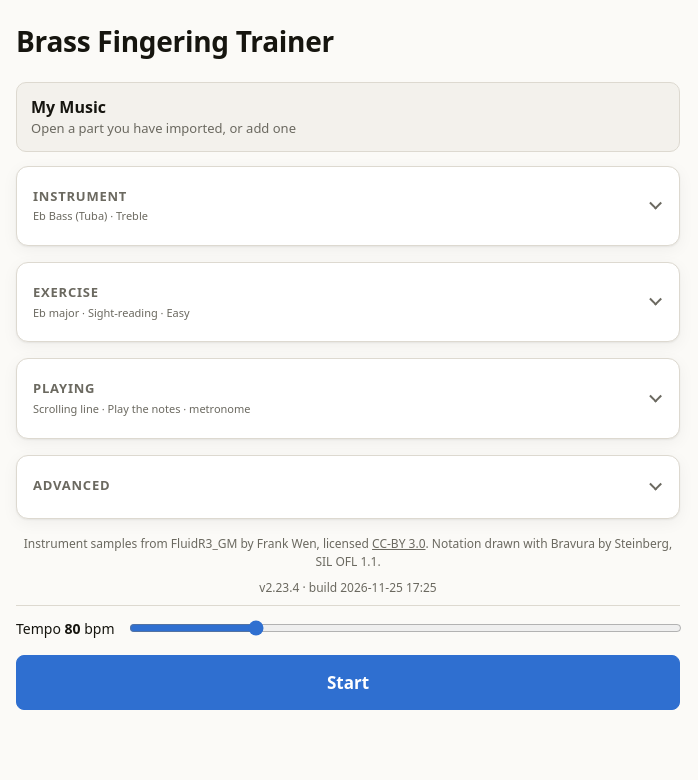
Scenario: headphones and speakers › chooses the phone speaker by default, and lets an output be chosen and forgotten
The image size is (698, 780).
Click the heading "Advanced" at {"x": 72, "y": 485}, box [33,476,110,494]
(page scrolled)
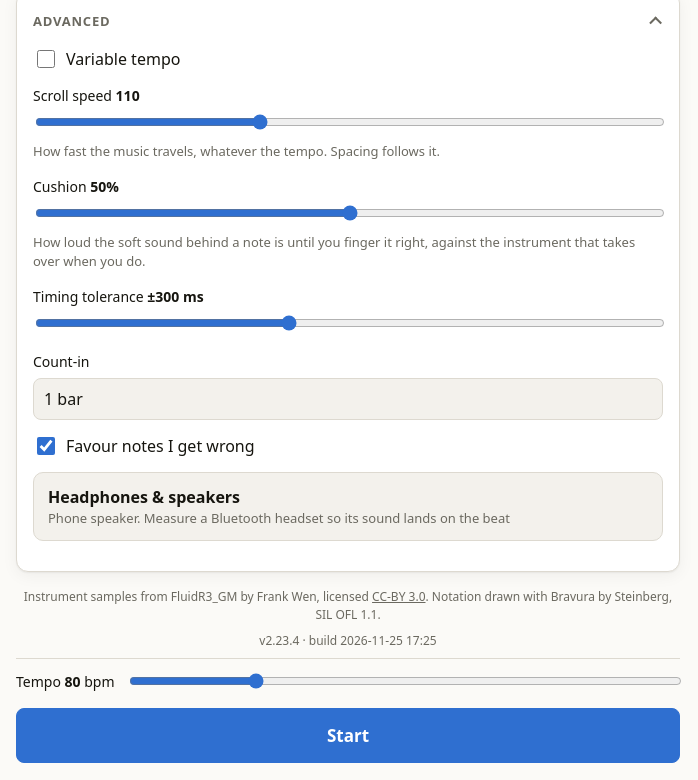
Click the button "Headphones & speakers" at {"x": 348, "y": 506}, box [33,472,663,541]
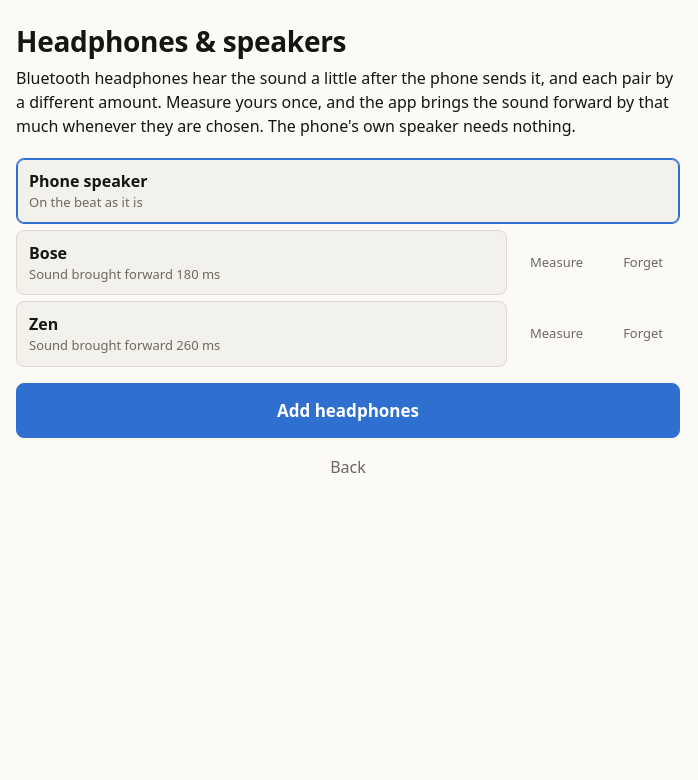
Result: the button "Zen Sound brought forward 260 ms" is shown
Click the button "Zen Sound brought forward 260 ms" at {"x": 103, "y": 345}, box [16,301,507,366]
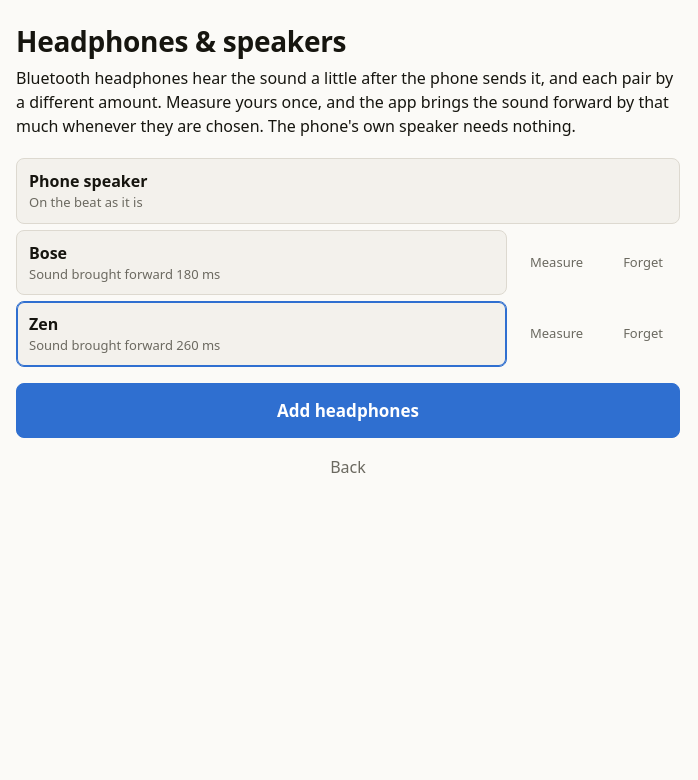
Forgetting the one in use puts the phone speaker back in charge.
Click the button with aria-label "Forget Zen" at {"x": 643, "y": 334}, box [606,301,680,366]
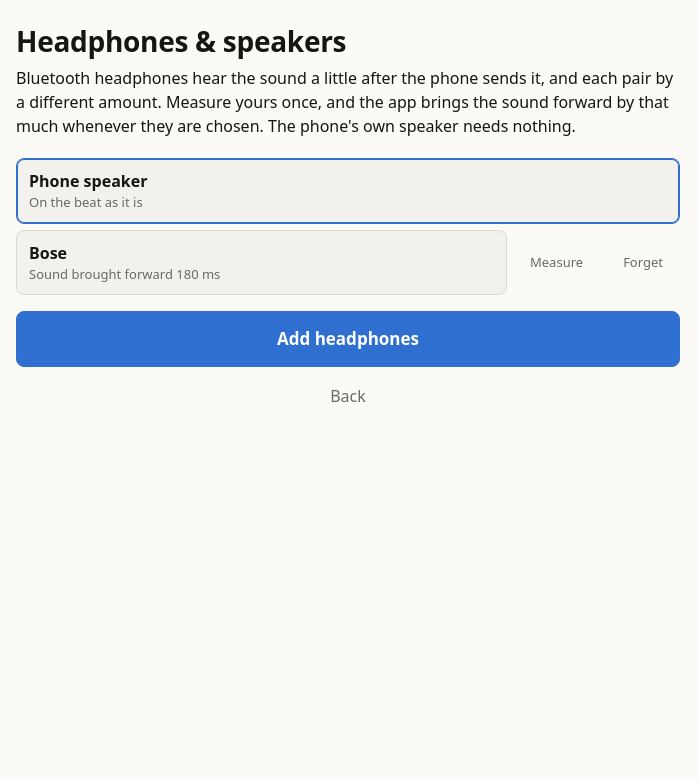
Result: the button "Zen" is gone
And the way back lands on settings, with the change kept.
Click the button "Back" at {"x": 348, "y": 396}, box [16,374,680,416]
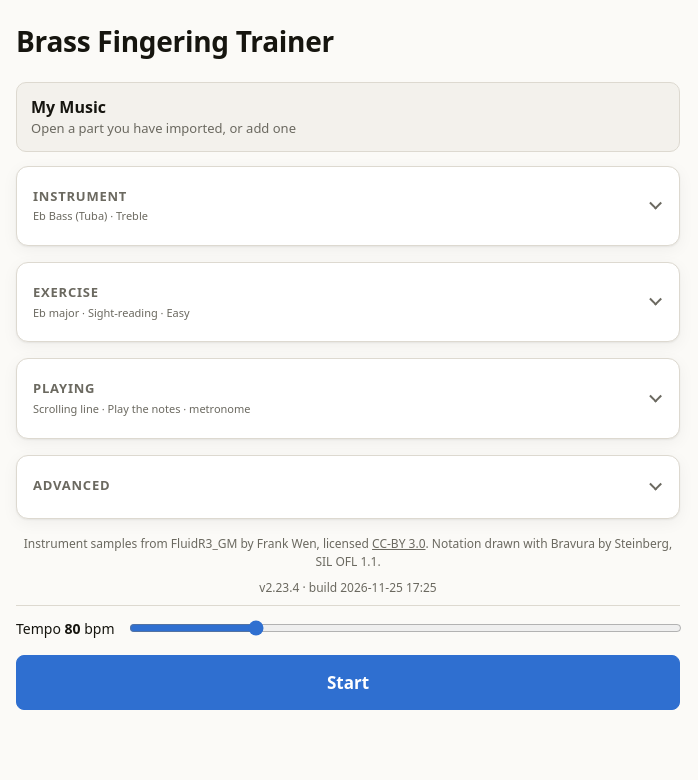
Click the heading "Advanced" at {"x": 72, "y": 485}, box [33,476,110,494]
(page scrolled)
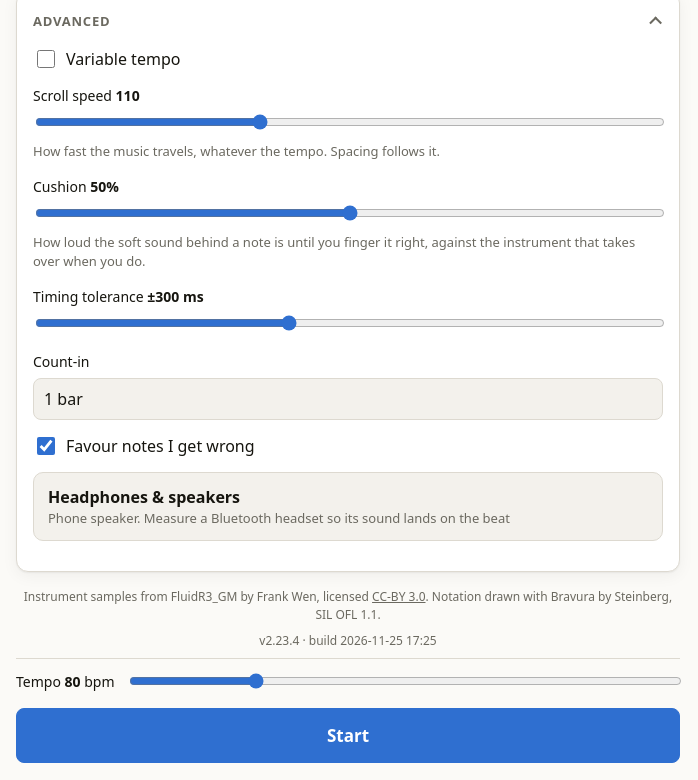
Result: the button "Headphones & speakers" shows "Phone speaker" at [33,472,663,541]
